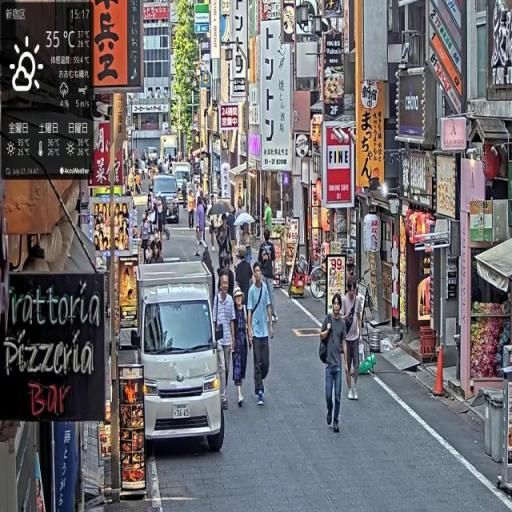person: (320, 291, 351, 437), (248, 263, 277, 407), (215, 273, 238, 411), (344, 277, 364, 404), (232, 286, 252, 410)
